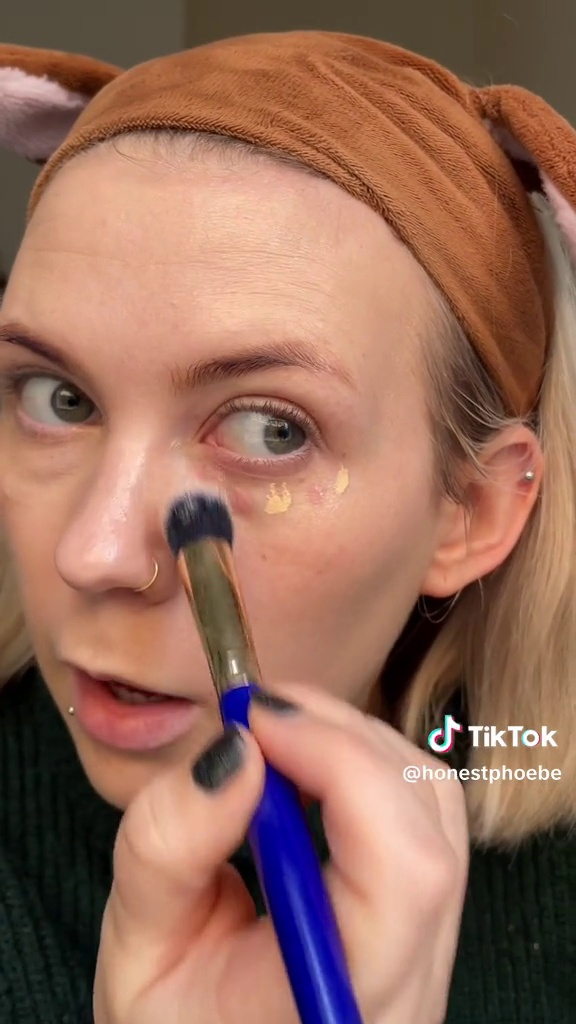train' :'yolo_data/train/images',: (157, 480, 372, 1023)
